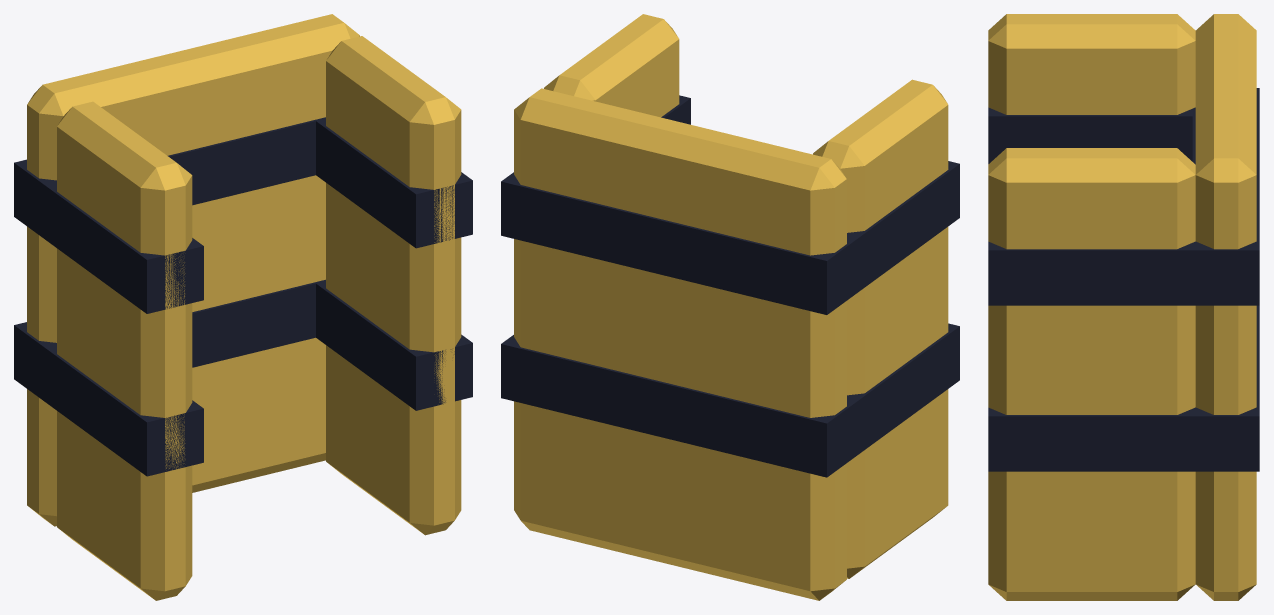
Rendered from sm_env_depot_column_guard.glb.
3 renders of one model, left to right at view 1: azimuth 30°, elevation 25°; view 2: azimuth 150°, elevation 25°; view 3: azimuth 270°, elevation 25°, orthographic. The views are drawn at different scales.
Parts seen in each view (by area): view 1: GuardFront, GuardSide.001, GuardSide, BandFront.001, BandSide.002, BandSide, BandFront, BandSide.003, BandSide.001; view 2: GuardFront, GuardSide, BandFront.001, BandFront, GuardSide.001, BandSide, BandSide.002; view 3: GuardSide.001, GuardFront, GuardSide, BandSide.003, BandSide.001, BandSide.002, BandFront.001, BandFront.
Boxes of the visible parts, x1,y1,x2,y2 form: GuardFront: [27, 14, 359, 526]; GuardSide.001: [326, 36, 461, 535]; GuardSide: [57, 101, 192, 600]; BandFront.001: [14, 117, 325, 240]; BandSide.002: [47, 183, 203, 313]; BandSide: [47, 347, 203, 476]; BandFront: [14, 279, 325, 402]; BandSide.003: [316, 118, 472, 248]; BandSide.001: [316, 281, 472, 410]; GuardFront: [514, 88, 846, 600]; GuardSide: [813, 79, 948, 578]; BandFront.001: [501, 172, 859, 314]; BandFront: [501, 335, 859, 477]; GuardSide.001: [544, 14, 679, 117]; BandSide: [847, 323, 959, 453]; BandSide.002: [847, 161, 959, 290]; GuardSide.001: [988, 148, 1195, 600]; GuardFront: [1195, 14, 1256, 600]; GuardSide: [988, 14, 1195, 114]; BandSide.003: [988, 241, 1195, 305]; BandSide.001: [988, 407, 1195, 471]; BandSide.002: [988, 107, 1194, 163]; BandFront.001: [1192, 88, 1259, 305]; BandFront: [1192, 305, 1259, 471].
Bounding box in the file's own units: 0.63 × 0.8 × 0.445.
